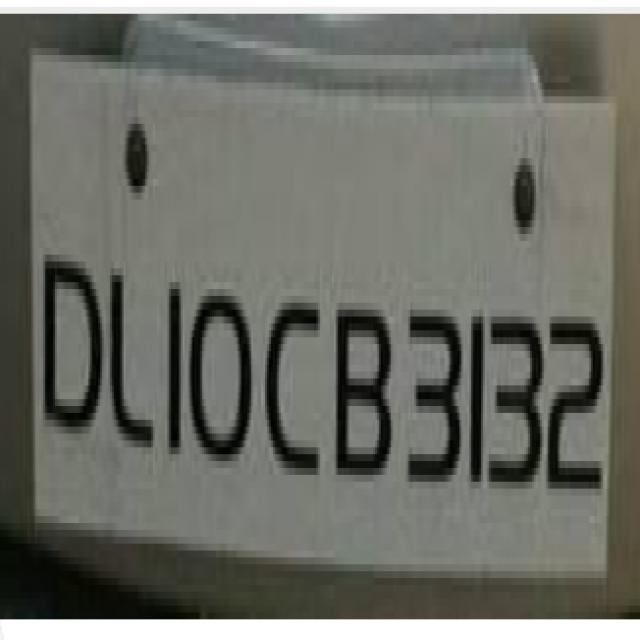3: (487, 298, 547, 504), (406, 285, 462, 500)
B: (332, 292, 394, 507)
C: (262, 282, 328, 490)
D: (40, 234, 107, 438)
I: (163, 265, 188, 473), (467, 302, 485, 494)
L: (109, 245, 157, 460)
O: (189, 265, 256, 489)
